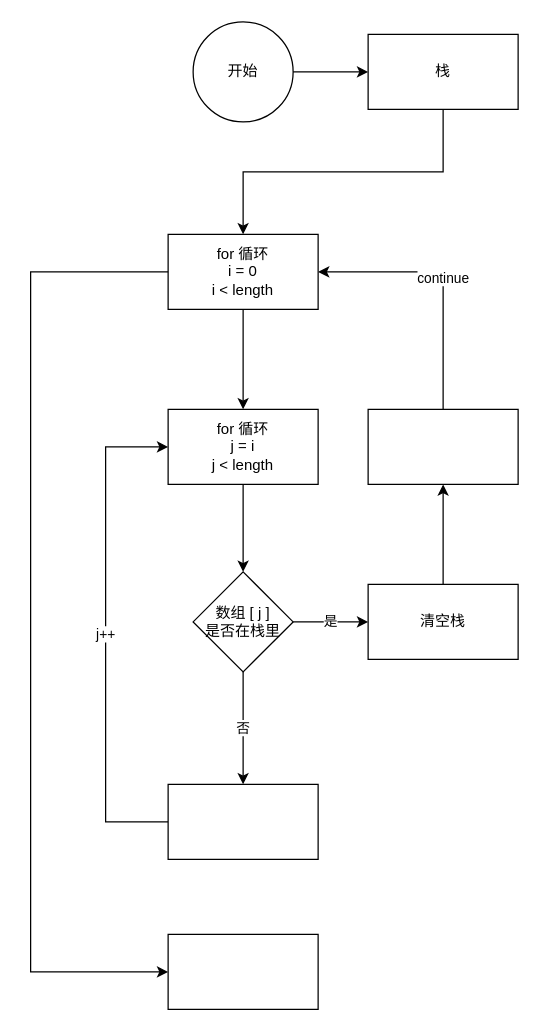
Some shapes in this 540 by 1031 pixel diagram are drawn without their labels. The shapes that lost their labels are listed below. From the top down, each one's centre as x and y in pixels, then its label:
At pixel 442 446: "i++".
At pixel 242 821: "存入栈中".
At pixel 242 971: "return 栈 length".
